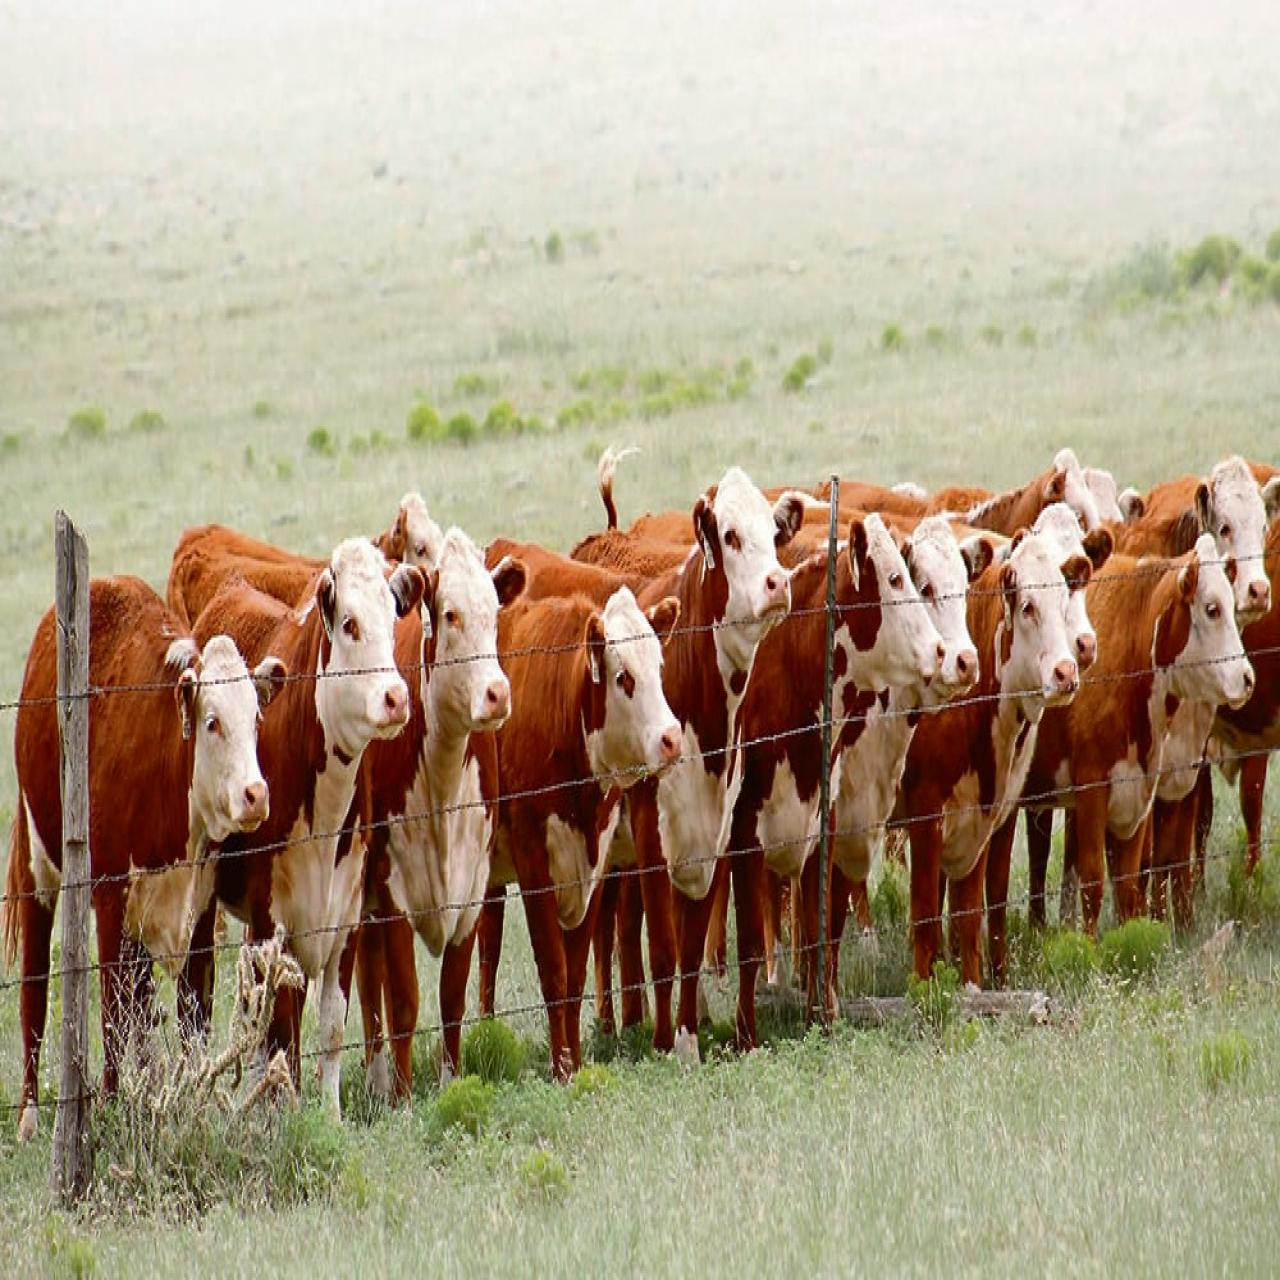cow: (168, 547, 523, 1145), (490, 471, 797, 1037), (8, 546, 288, 1148), (196, 539, 430, 1176), (467, 567, 687, 1094), (743, 523, 944, 1036), (832, 509, 989, 994), (1060, 546, 1254, 906), (830, 510, 994, 919), (1129, 458, 1279, 659), (989, 501, 1115, 668)
